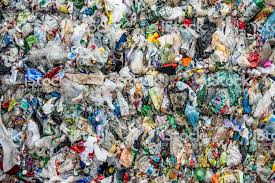garbage: (1, 1, 275, 172)
